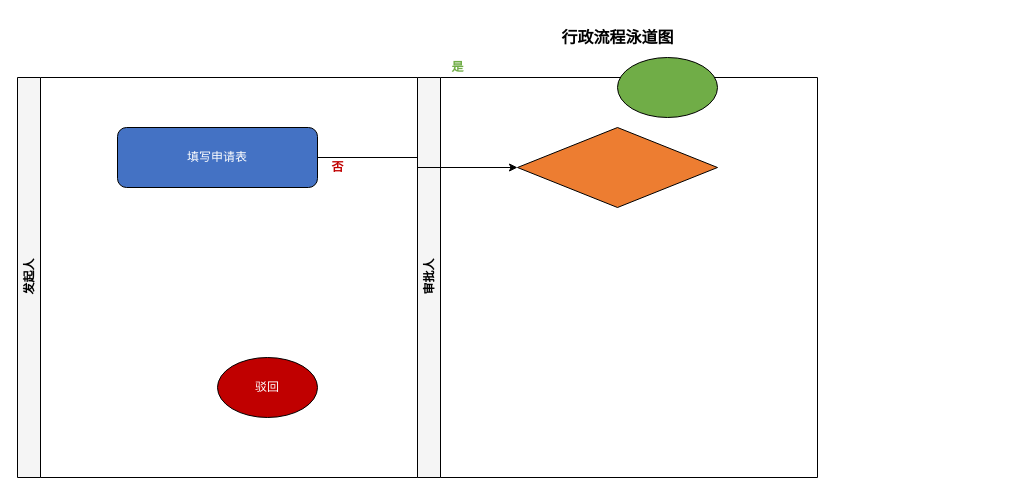
Image size: 1035x495. Some labels were removed from this diagram. The shapes that lost their labels are listed below. From the top down, each one's centre as x and y in pixels, then its label:
At point 667,87: "通过".
At point 617,167: "审批?".
